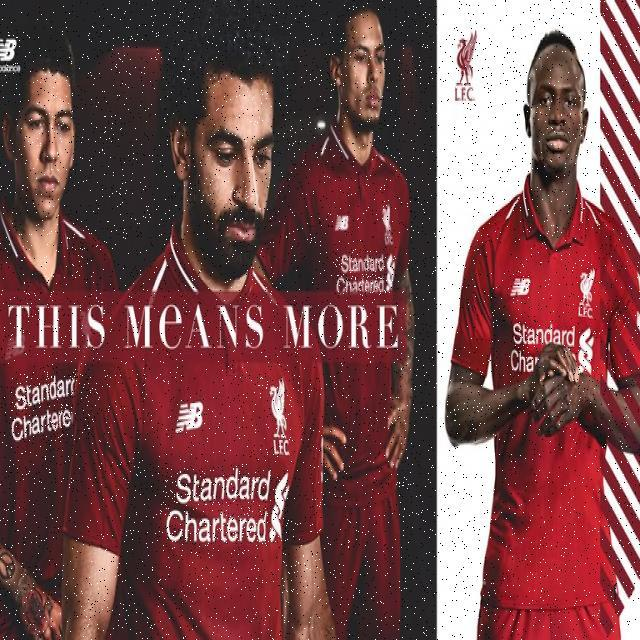Standard Chartered: (165, 470, 289, 546), (10, 372, 93, 442), (511, 317, 594, 386), (335, 249, 396, 297)
